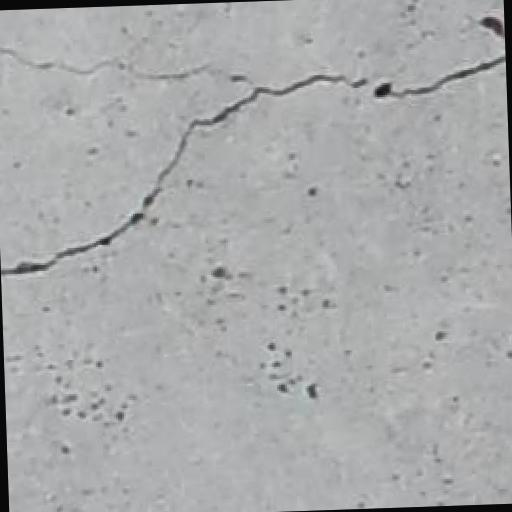spalling: (5, 47, 499, 284)
